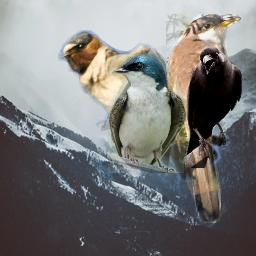Crow: (185, 46, 242, 168)
Cuckoo: (166, 14, 241, 223)
Swallow: (58, 30, 231, 182), (108, 53, 186, 173)
